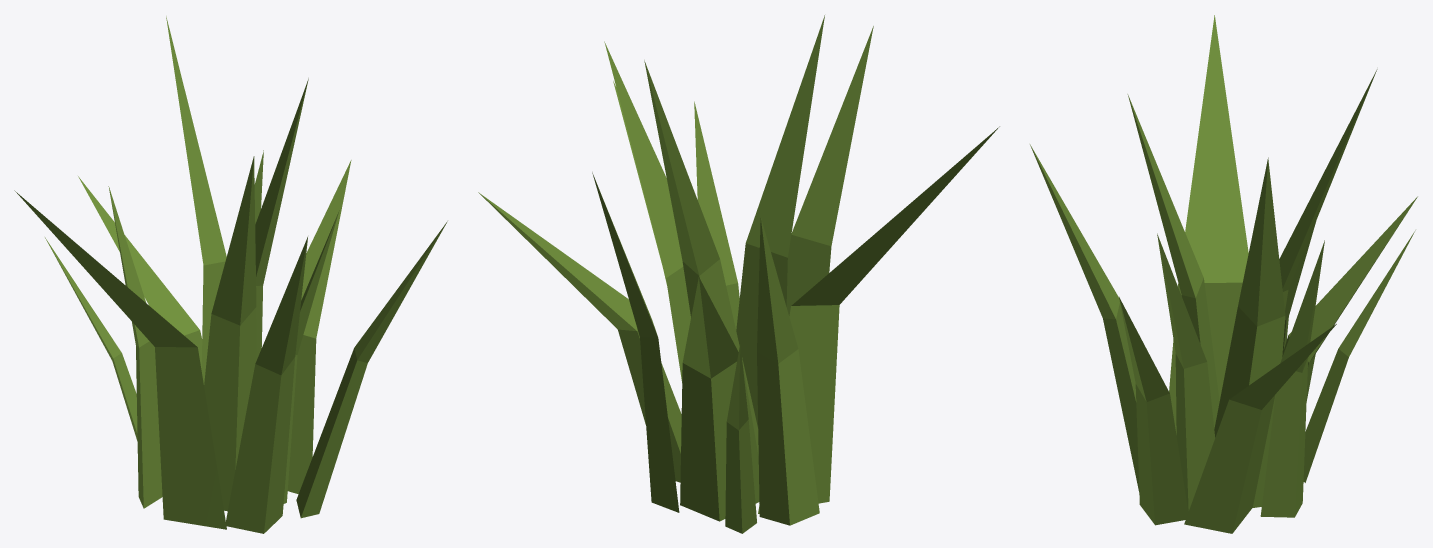
Rendered from Grass_08.fbx.
3 views of the same model, side by side, from view 1: azimuth 30°, elevation 25°; view 2: azimuth 150°, elevation 25°; view 3: azimuth 270°, elevation 25° (orthographic). The views are drawn at different scales.
Parts seen in each view (by area): view 1: Grass_08; view 2: Grass_08; view 3: Grass_08.
Part boxes in pixels (box(x1,y1,x2,y2)): Grass_08: box(14, 16, 447, 533); Grass_08: box(478, 15, 999, 533); Grass_08: box(1030, 15, 1417, 533).
Size of the model in its own units: 27.41 by 28.43 by 22.91.
